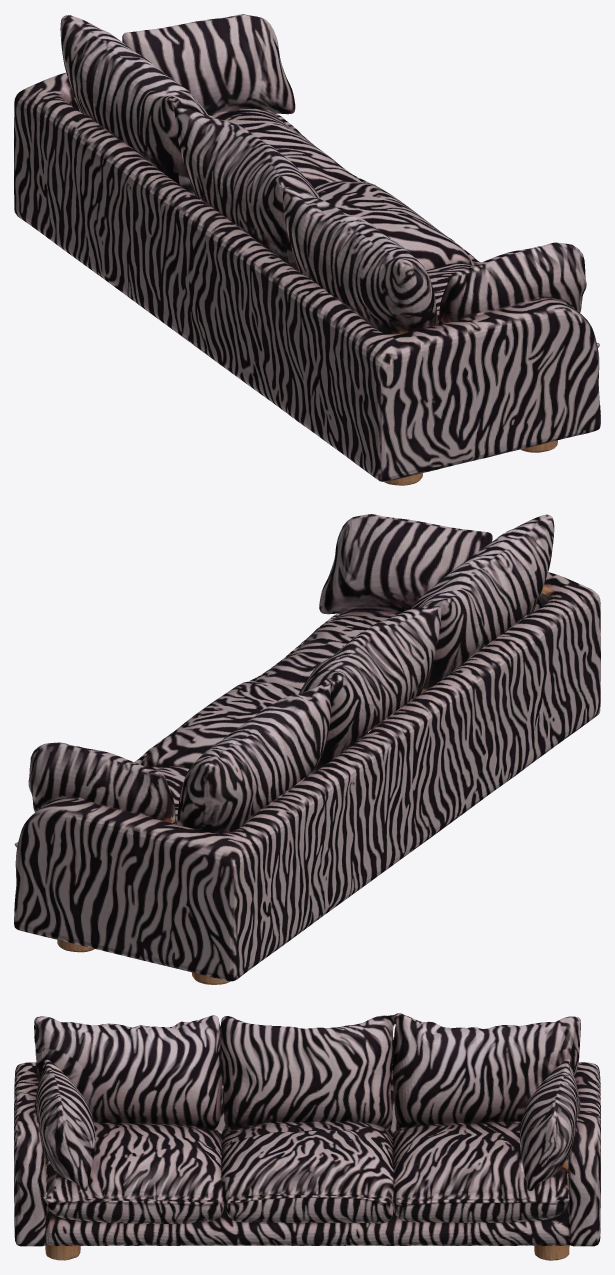
3 renders of one model, top to bottom at view 1: azimuth 30°, elevation 25°; view 2: azimuth 150°, elevation 25°; view 3: azimuth 270°, elevation 25°, orthographic. The views are drawn at different scales.
Parts seen in each view (by area): view 1: tripo_node_58d17372-5542-4839-b730-b7923db153e4; view 2: tripo_node_58d17372-5542-4839-b730-b7923db153e4; view 3: tripo_node_58d17372-5542-4839-b730-b7923db153e4.
Boxes of the visible parts, x1,y1,x2,y2 form: tripo_node_58d17372-5542-4839-b730-b7923db153e4: [14, 14, 600, 485]; tripo_node_58d17372-5542-4839-b730-b7923db153e4: [14, 514, 600, 984]; tripo_node_58d17372-5542-4839-b730-b7923db153e4: [14, 1013, 600, 1260].
Bounding box in the file's own units: 0.3758 × 0.3414 × 0.9999.
Materials: 1 (1 with a texture image).
